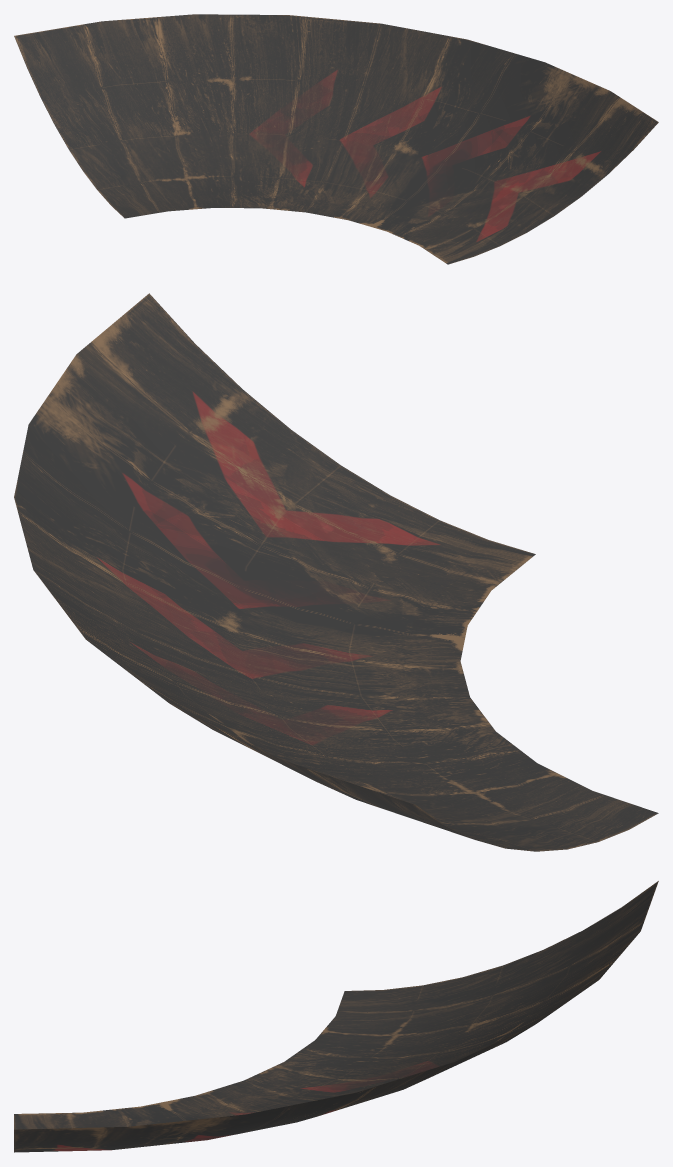
Rendered from Route_V_C_90x1.fbx.
The picture shows the model from 3 angles, top to bottom: view 1: azimuth 30°, elevation 25°; view 2: azimuth 150°, elevation 25°; view 3: azimuth 270°, elevation 25°; orthographic projection. The views are drawn at different scales.
Parts seen in each view (by area): view 1: polySurface362; view 2: polySurface362; view 3: polySurface362.
Part boxes in pixels (x1=…): polySurface362: x1=14, y1=14, x2=658, y2=264; polySurface362: x1=14, y1=293, x2=658, y2=851; polySurface362: x1=14, y1=881, x2=658, y2=1152.
Size of the model in its own units: 24.65 by 5.27 by 26.25.
